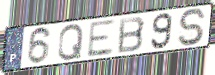6: (27, 25, 55, 67)
9: (150, 12, 174, 51)
B: (116, 15, 147, 55)
E: (85, 18, 116, 59)
Q: (56, 23, 85, 62)
S: (177, 7, 208, 48)
